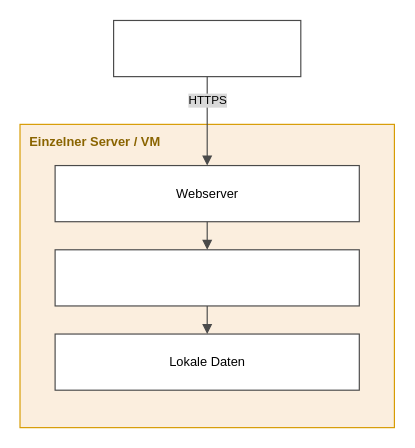
Image size: 415x448. Some labels were removed from this diagram. The shapes that lost their labels are listed below. From the top down, each one's centre as x and y in pixels, then its label:
(x=206, y=48): Gäste PC / Smartphone
(x=206, y=277): Webanwendung
